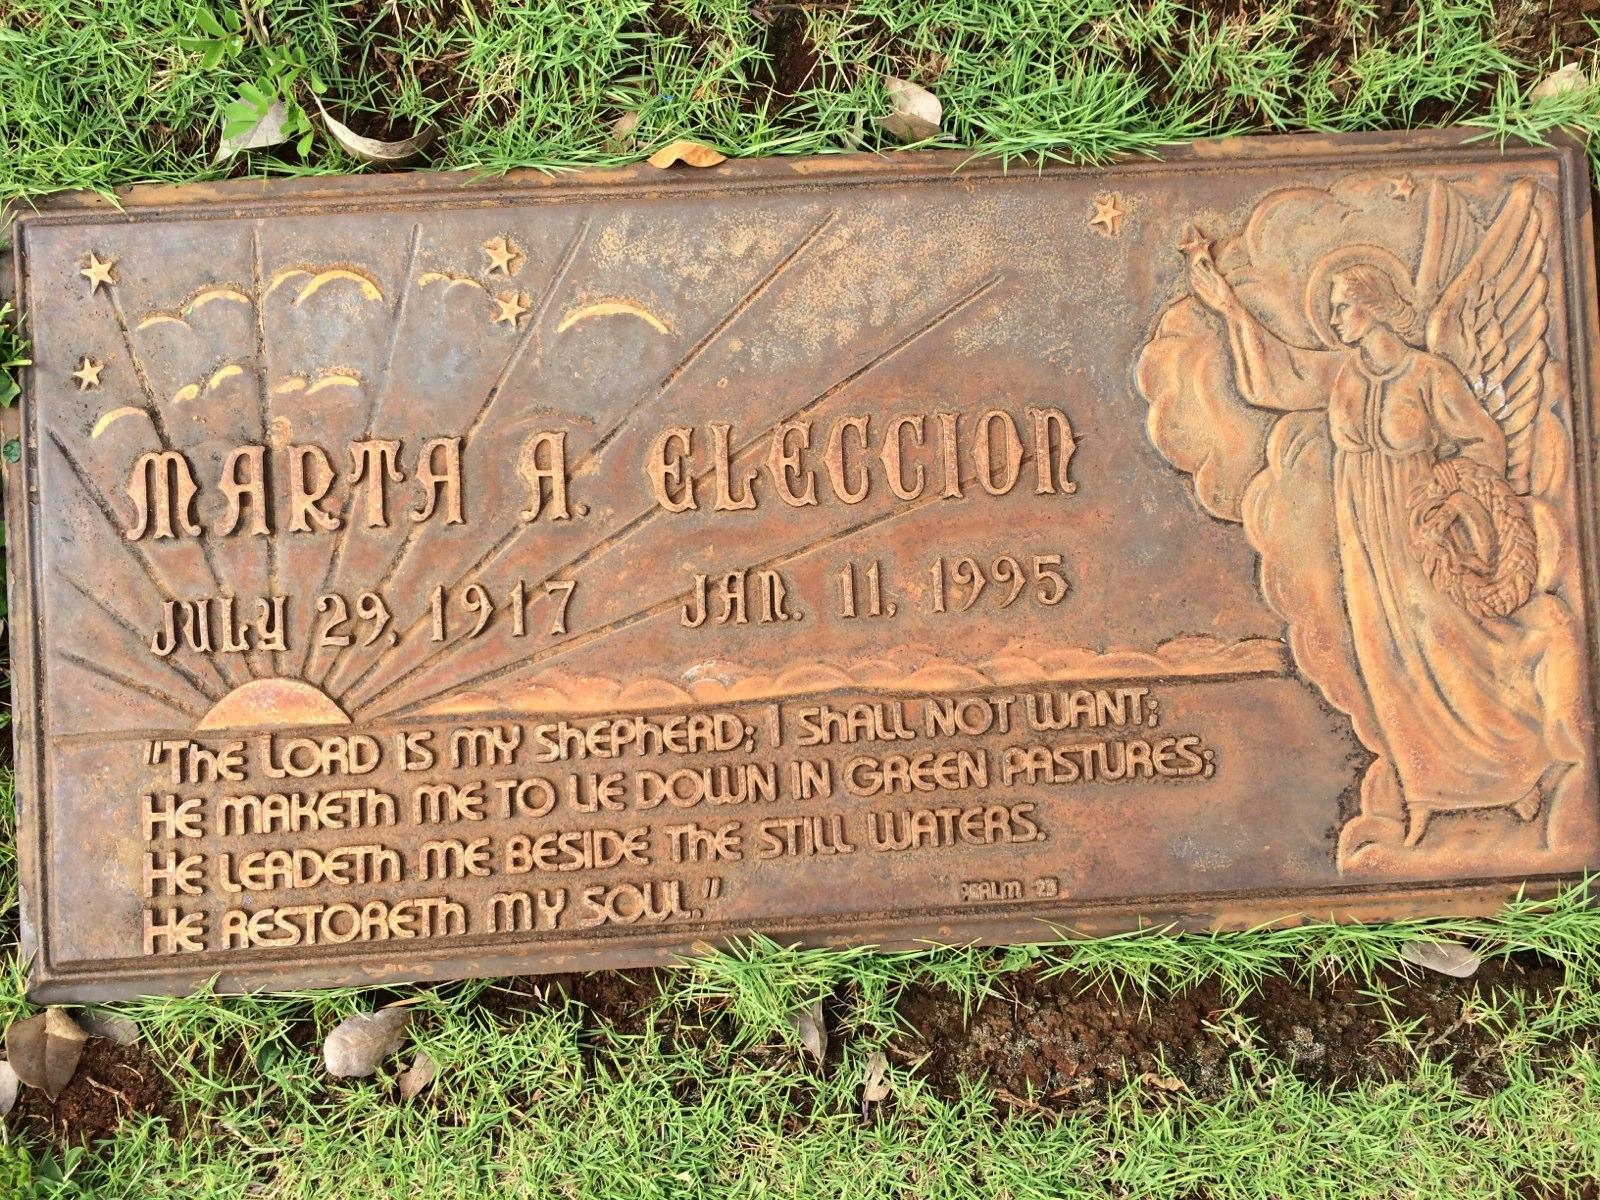flat: (0, 132, 1600, 1022)
